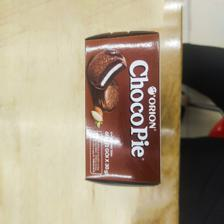Chocopie_cacao: (82, 30, 166, 187)
